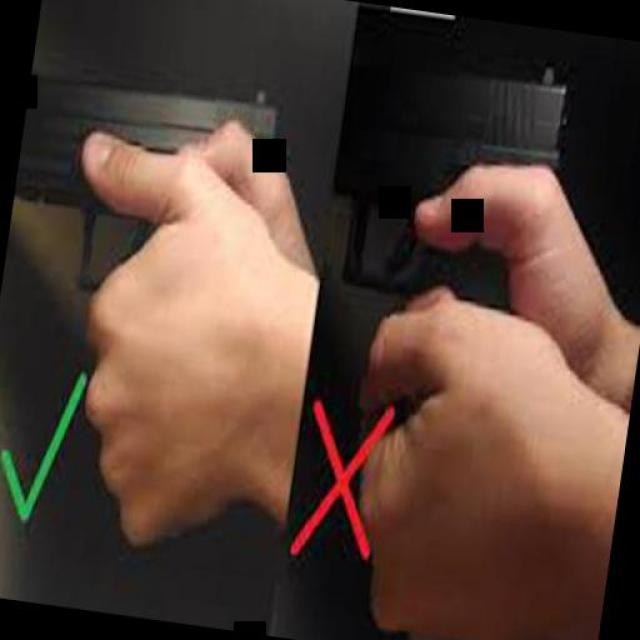gun: (308, 22, 582, 354), (1, 44, 284, 324)
